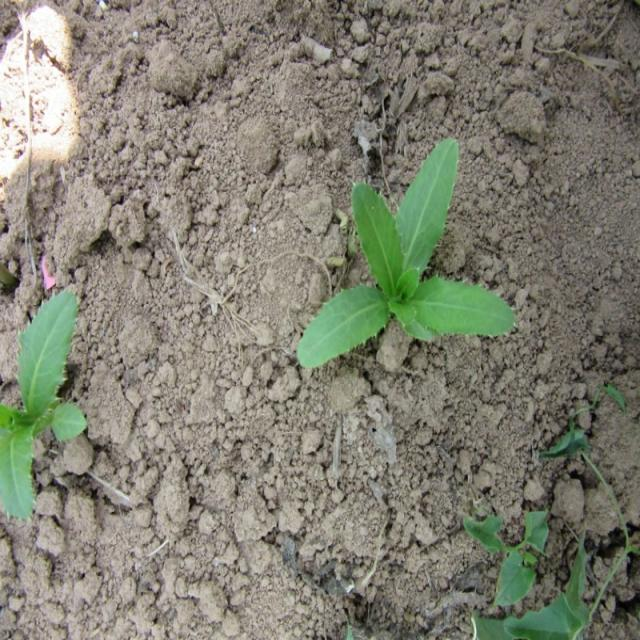field_thistle: (291, 148, 518, 372)
